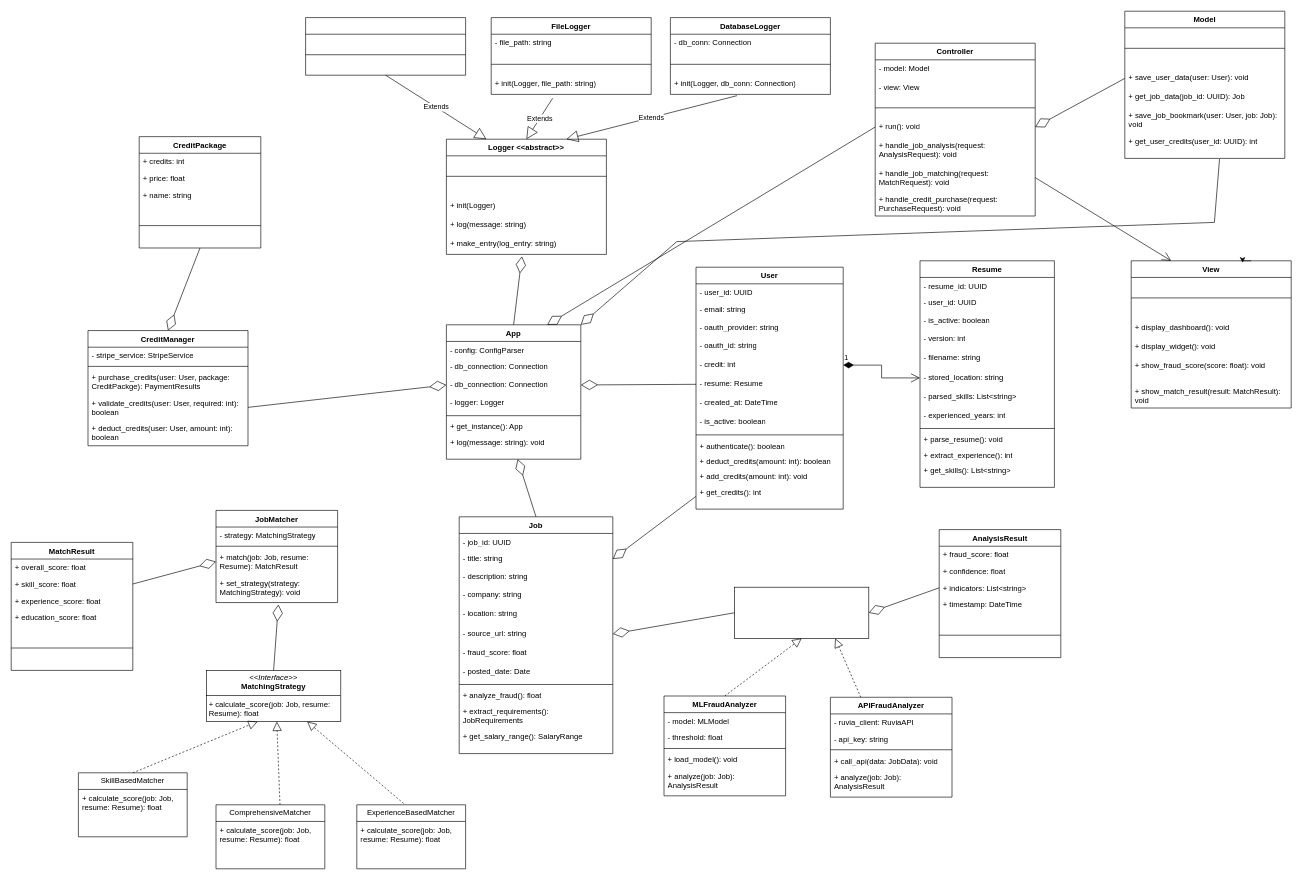
This 1302x882 diagram has some shape labels left out. Here are the shapes that lost their labels. From the top down, the centre of each, then its label:
At (x=385, y=46): "ConsoleLogger".
At (x=801, y=612): "<<Interface>> FraudAnalyzer + analyze(job: Job): AnalysisResult".
